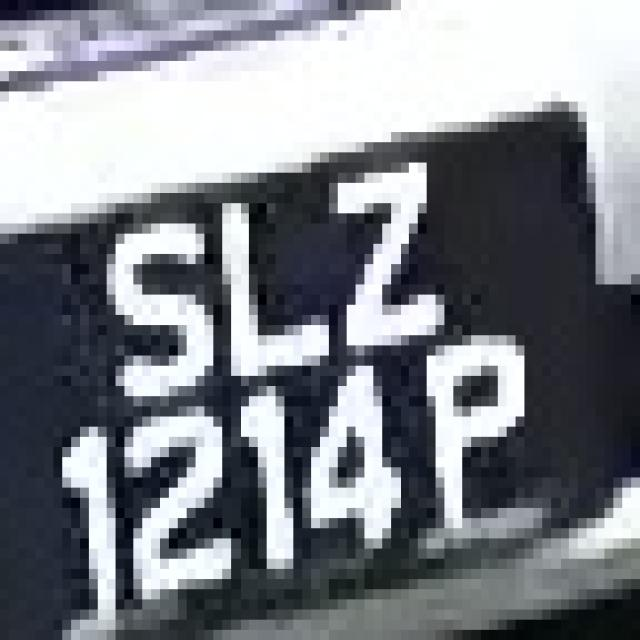1: (213, 376, 320, 589), (71, 396, 133, 620)
2: (116, 386, 231, 599)
4: (276, 335, 418, 569)
L: (205, 173, 346, 396)
P: (418, 315, 542, 548)
S: (80, 183, 222, 416)
Z: (311, 142, 436, 366)
